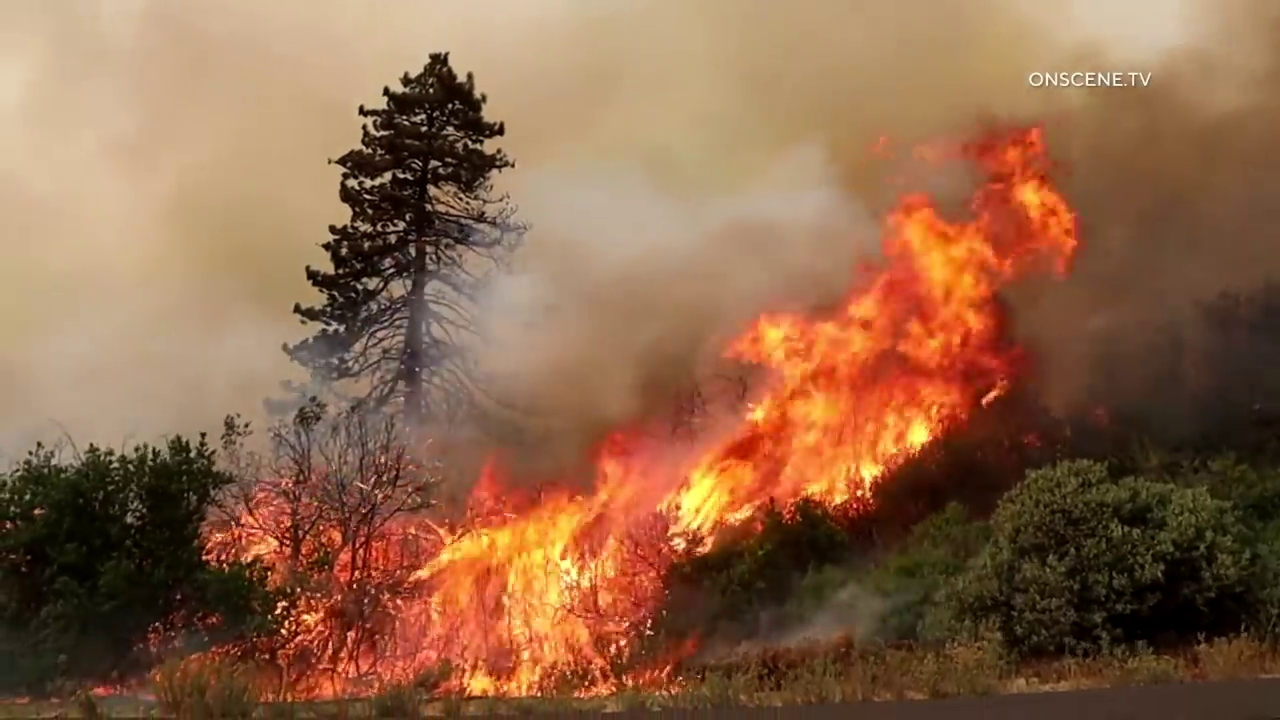forest_fire: (287, 128, 1077, 696), (223, 533, 283, 561), (472, 460, 501, 507), (256, 495, 274, 517), (329, 557, 354, 567), (642, 661, 661, 672), (266, 517, 286, 522), (347, 623, 349, 624), (337, 602, 338, 604), (279, 509, 281, 510)
